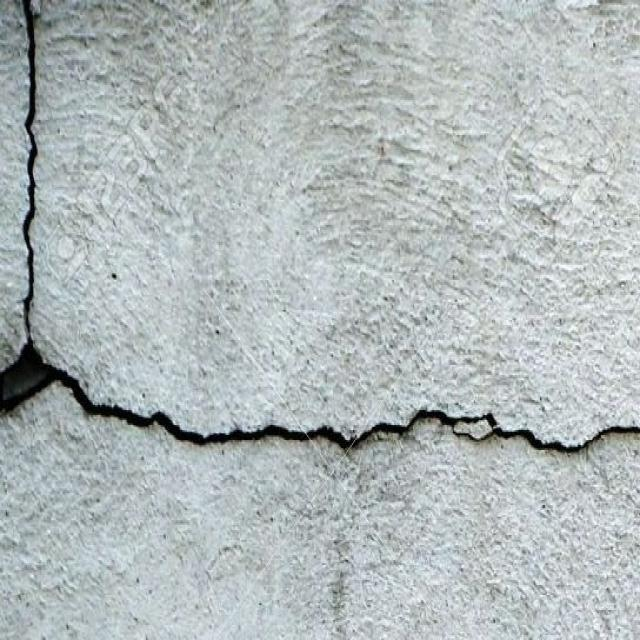Turtle-shell patterned: (0, 3, 640, 488)
